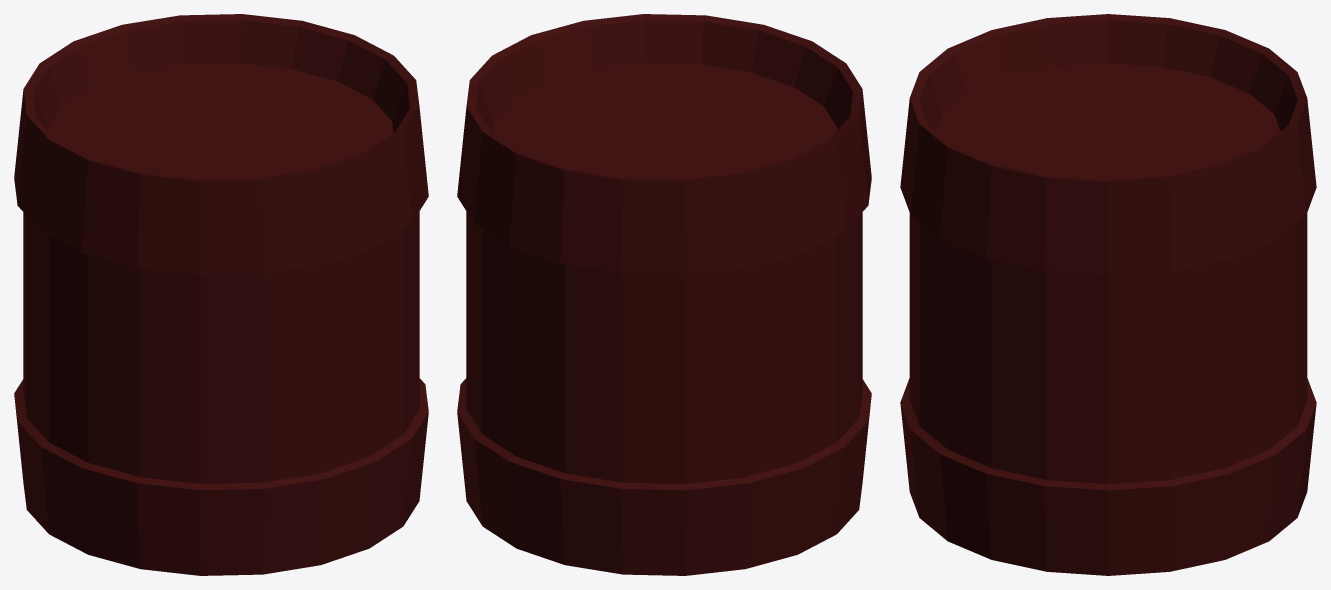
The model's file is can1A(F182).obj.
3 renders of one model, left to right at view 1: azimuth 30°, elevation 25°; view 2: azimuth 150°, elevation 25°; view 3: azimuth 270°, elevation 25°, orthographic.
Parts seen in each view (by area): view 1: Cylinder.003; view 2: Cylinder.003; view 3: Cylinder.003.
Boxes of the visible parts, x1,y1,x2,y2 form: Cylinder.003: [14, 14, 428, 575]; Cylinder.003: [457, 14, 871, 575]; Cylinder.003: [900, 14, 1316, 575].
Bounding box in the file's own units: 1.52 × 1.58 × 1.52.
